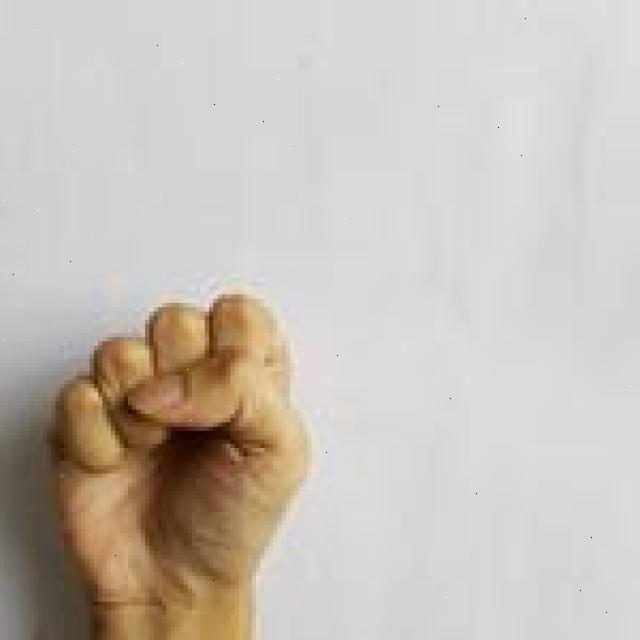S: (52, 292, 317, 640)
